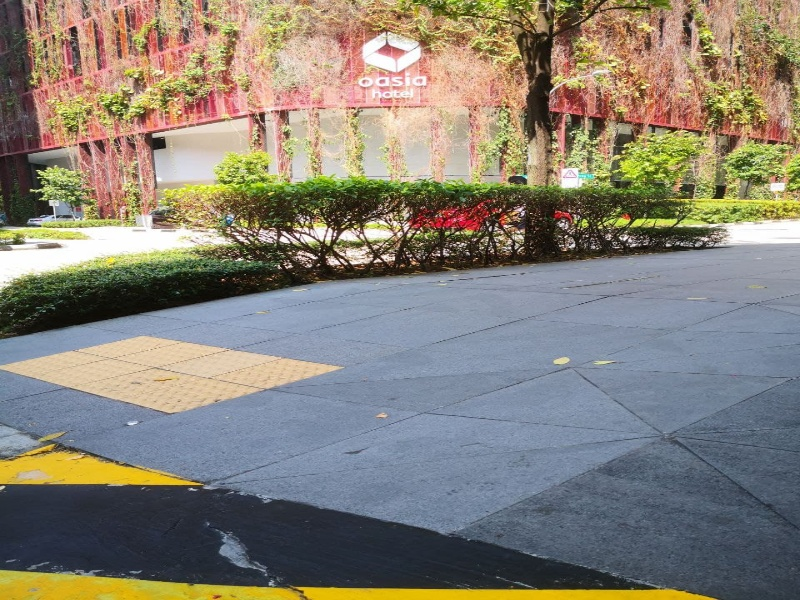slope: (9, 248, 273, 439)
